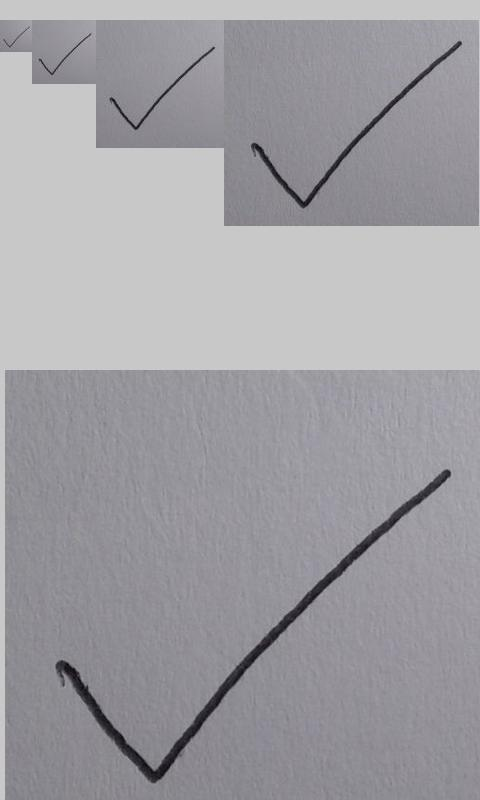check_box: (57, 473, 450, 784), (253, 41, 461, 207), (109, 47, 216, 131), (39, 33, 91, 75), (3, 27, 30, 48)
